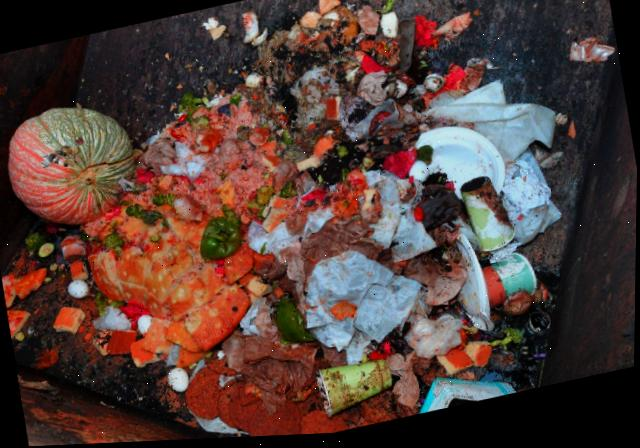Garbage: (6, 0, 547, 441)
